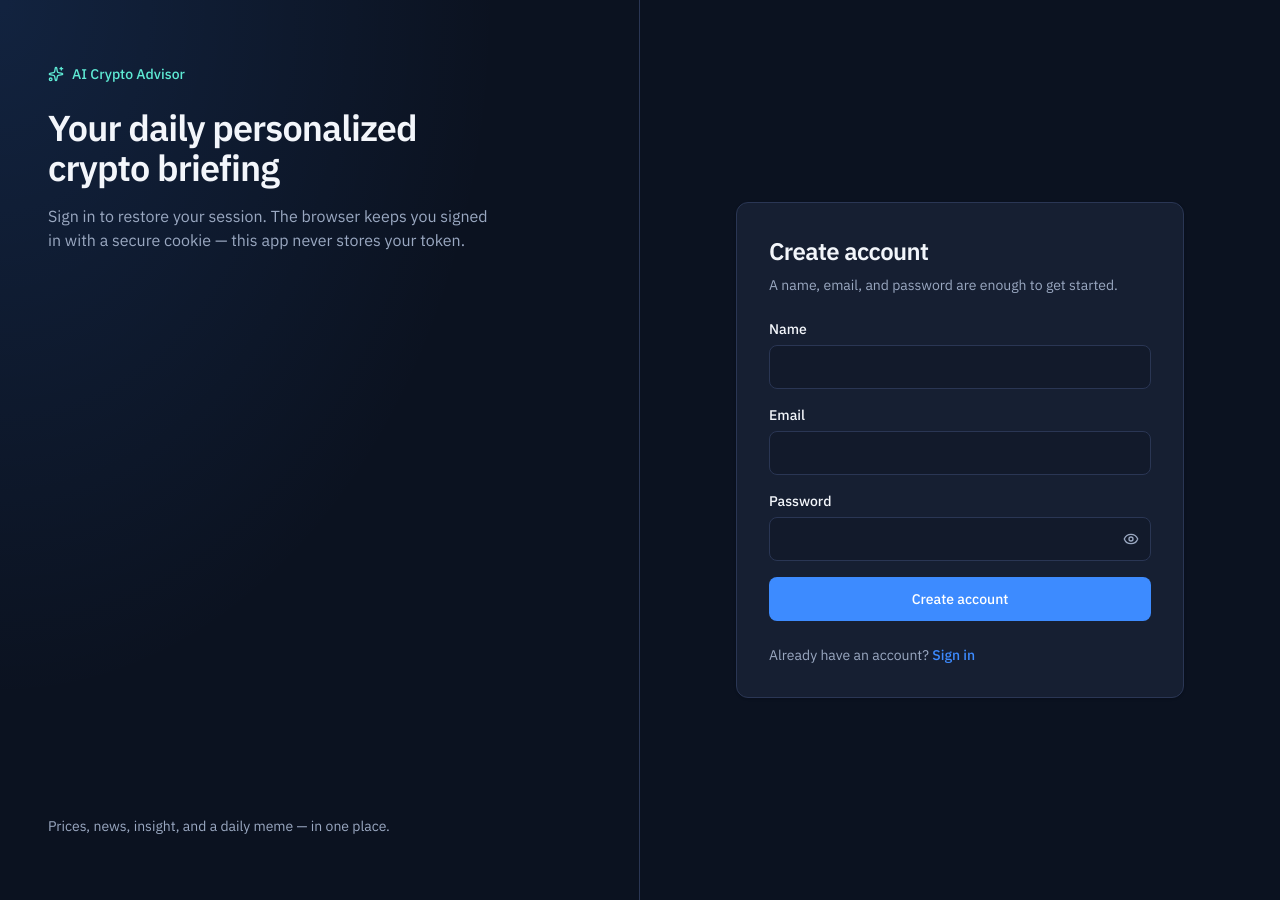
it: signup › redirects to Login when auto-login fails, without a technical error
Check: the heading "Create account" is shown, box [769, 235, 928, 267]
Type "Ada" into the field labelled "Name".
click(960, 367); type("Ada")  # box [769, 345, 1151, 389]
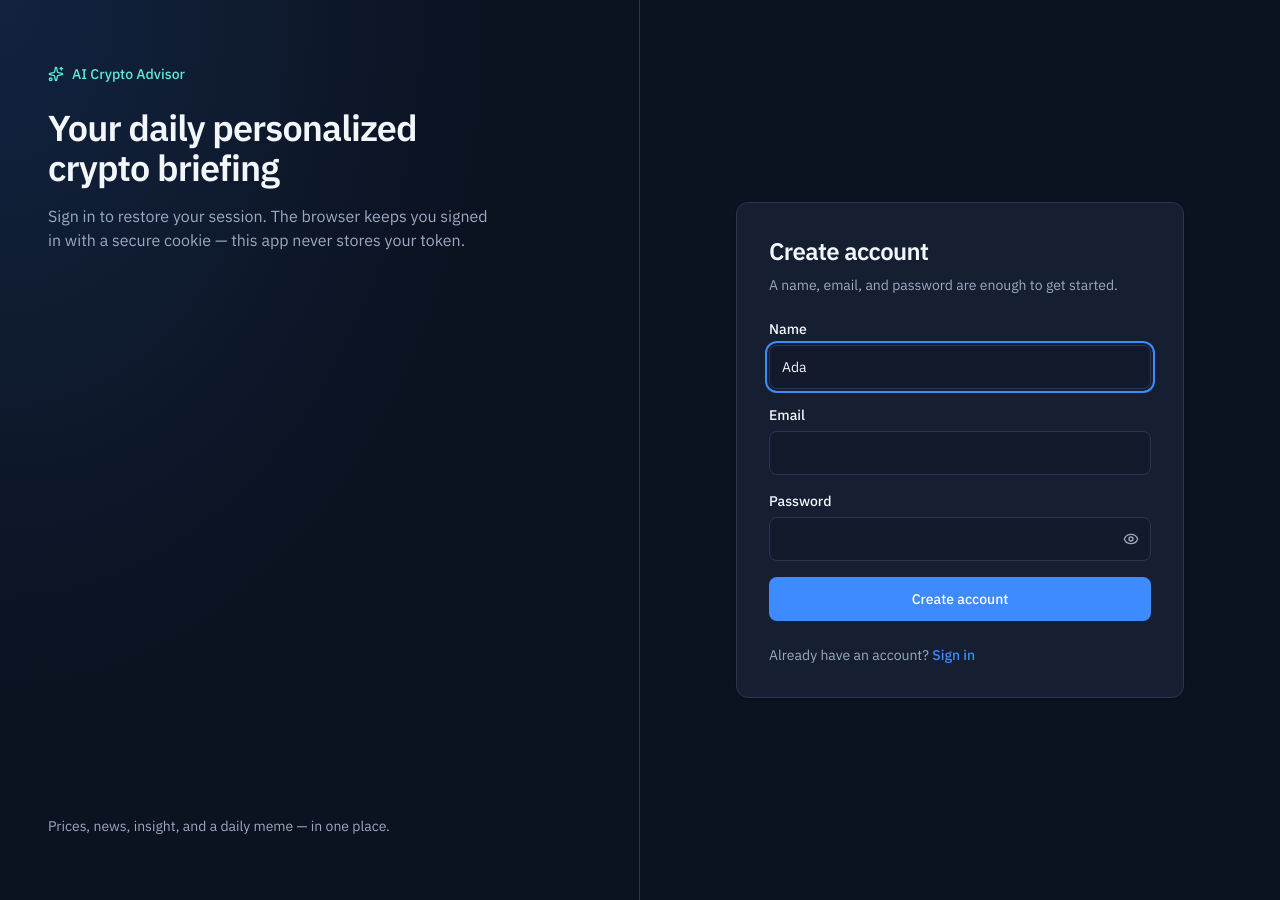
Type "ada@example.com" into the field labelled "Email".
click(960, 453); type("ada@example.com")  # box [769, 431, 1151, 475]
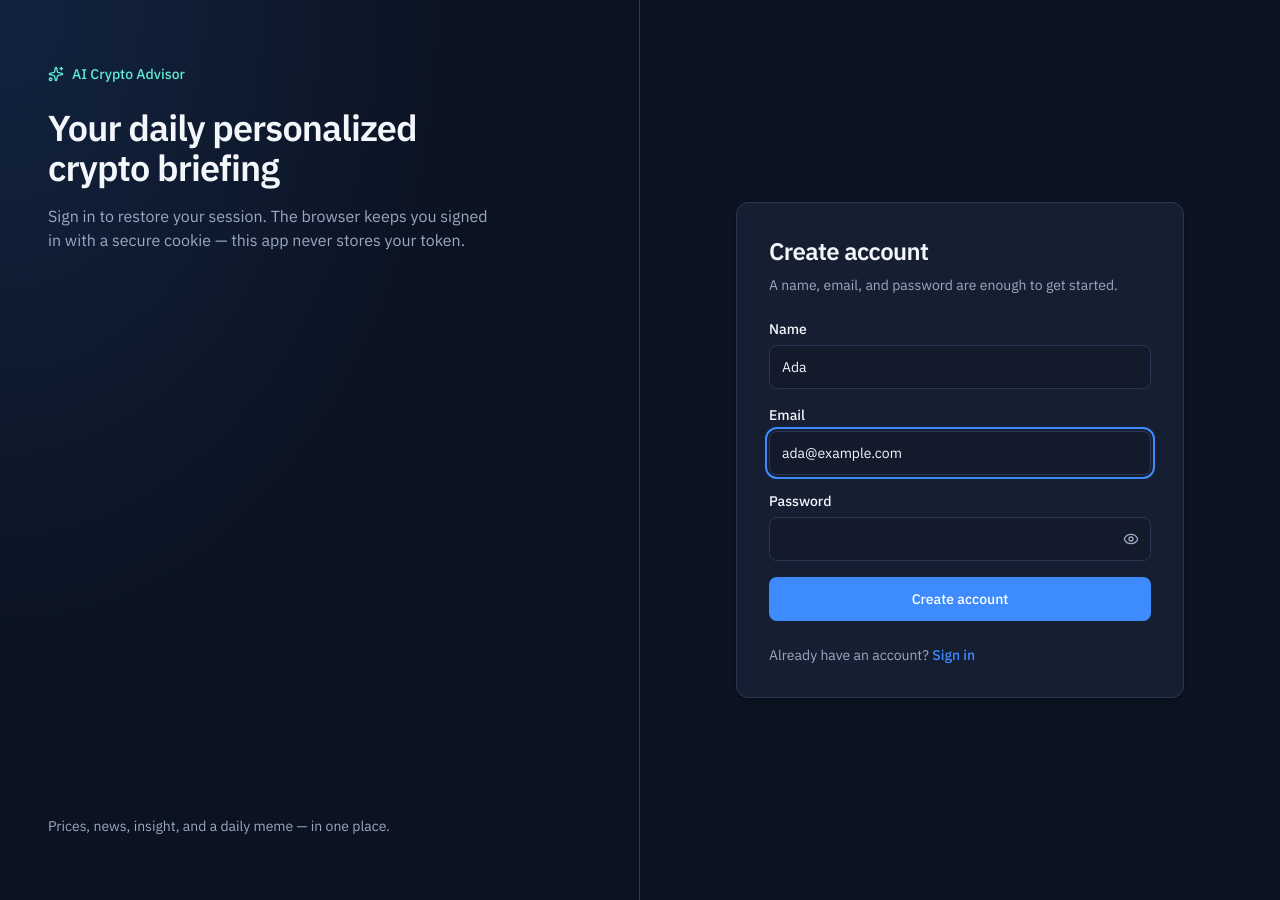
Type "Password1" into the password field labelled "Password".
click(960, 539); type("Password1")  # box [769, 517, 1151, 561]
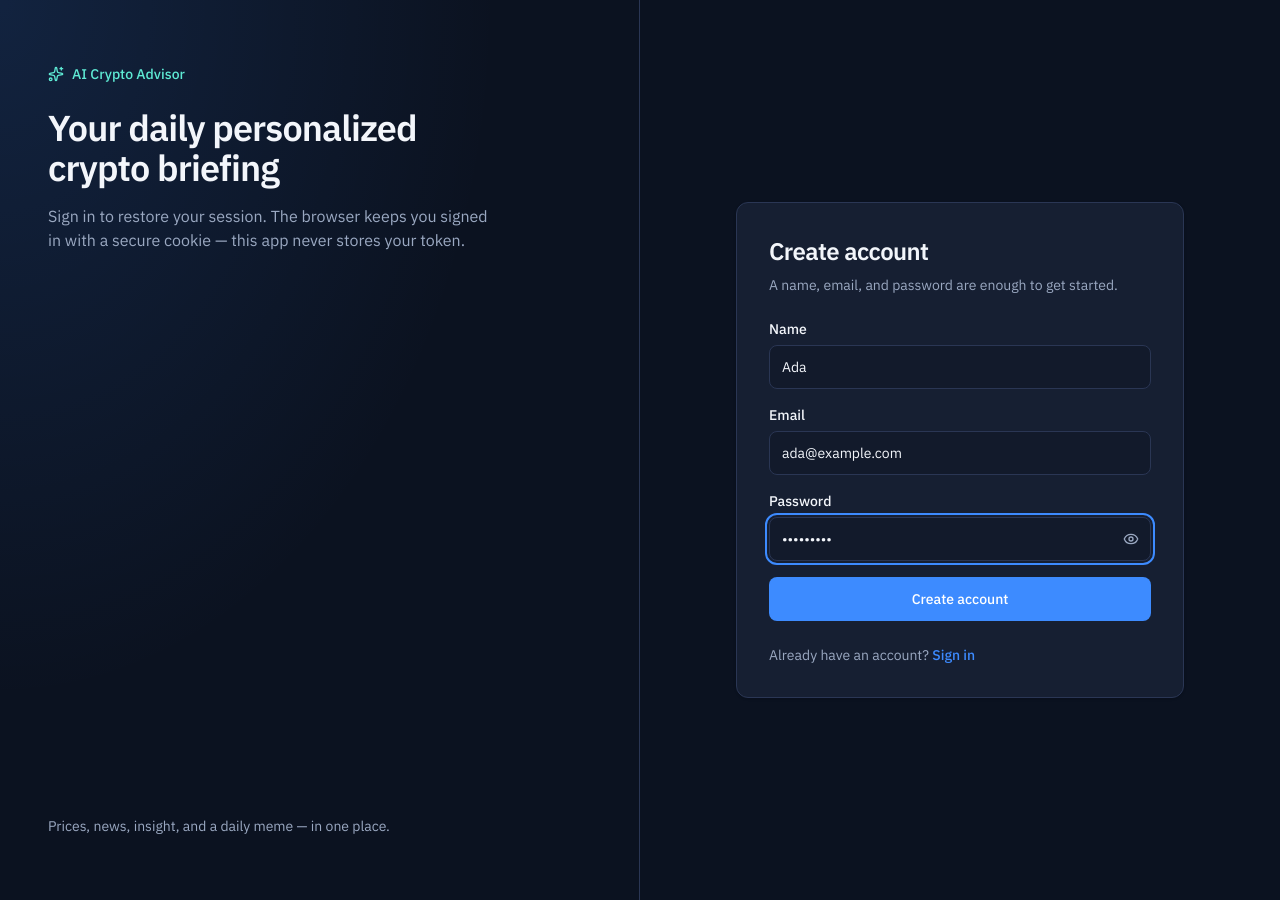
Click the button "Create account".
click(960, 599)  # box [769, 577, 1151, 621]
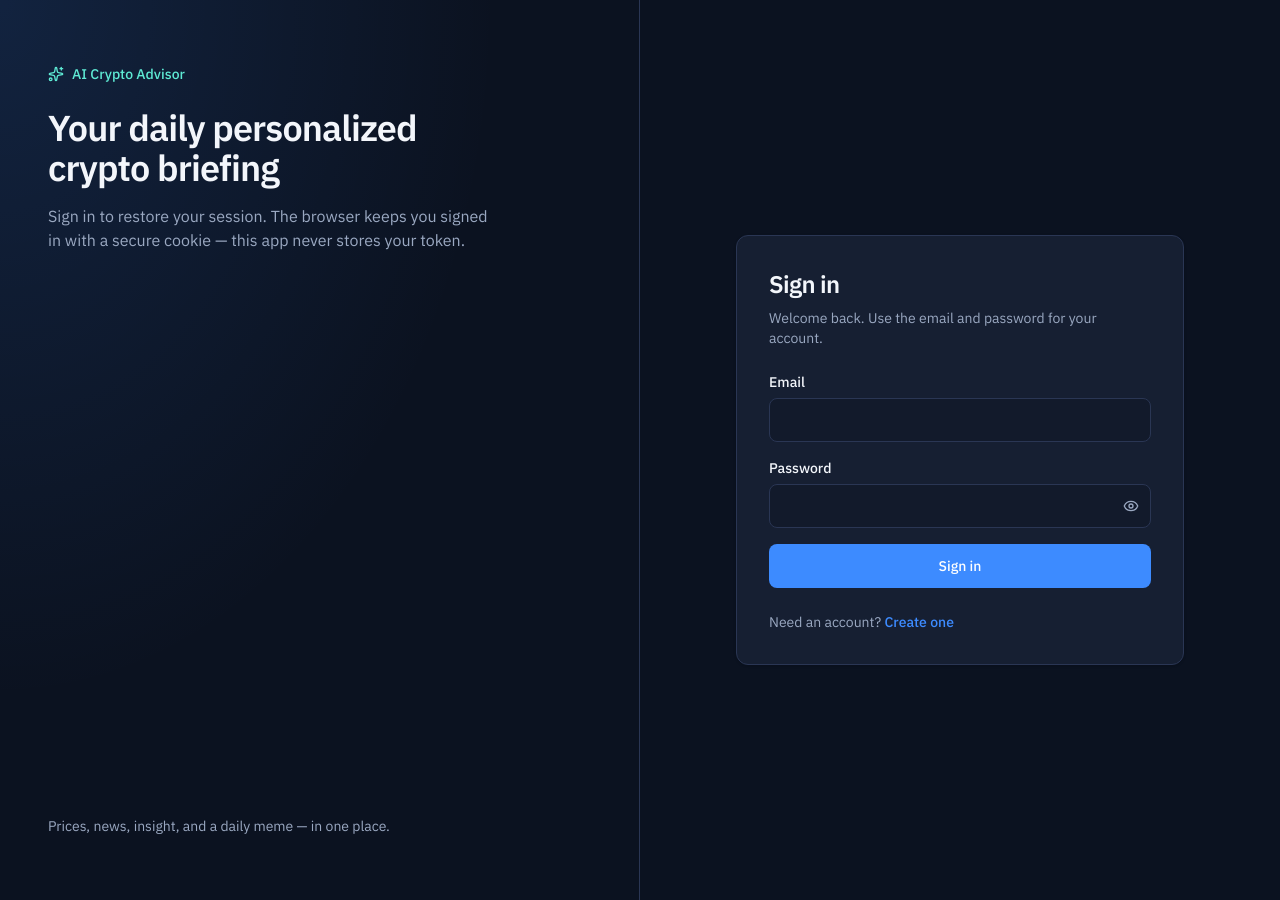
Check: the heading "Sign in" is shown, box [769, 268, 840, 300]
